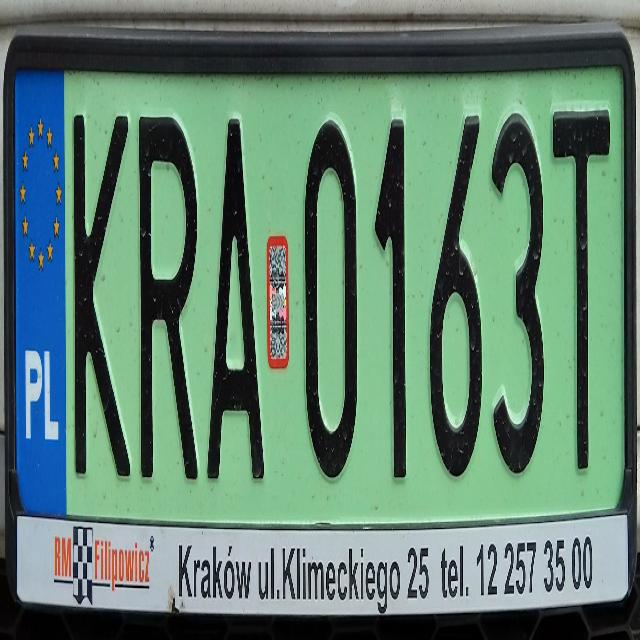pl_license_plate: (14, 71, 626, 511)
